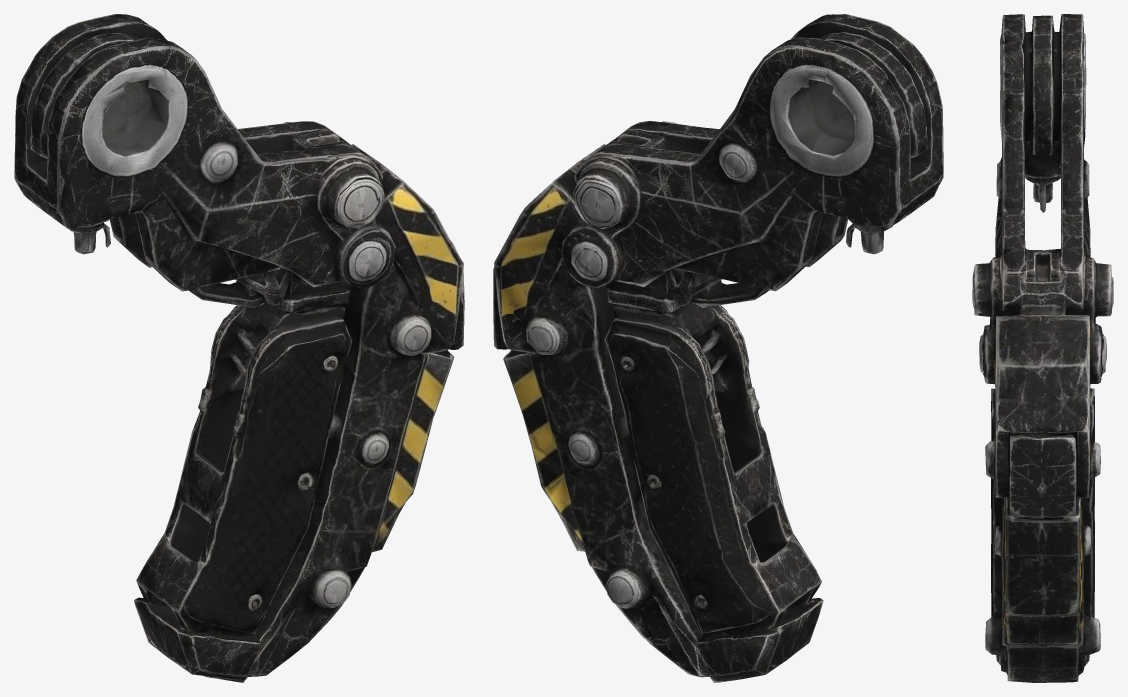
File: dedo.glb
3 views of the same model, side by side, from view 1: azimuth 30°, elevation 25°; view 2: azimuth 150°, elevation 25°; view 3: azimuth 270°, elevation 25° (orthographic). The views are drawn at different scales.
Size of the model in its own units: 1.24 by 1.9 by 0.4057.
Materials: 1 (1 with a texture image).
